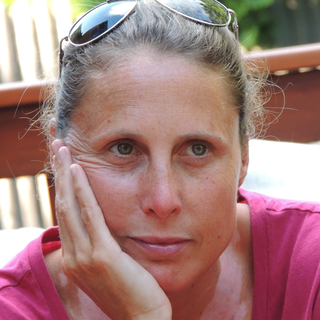eye: (100, 135, 145, 162), (172, 139, 216, 162)
